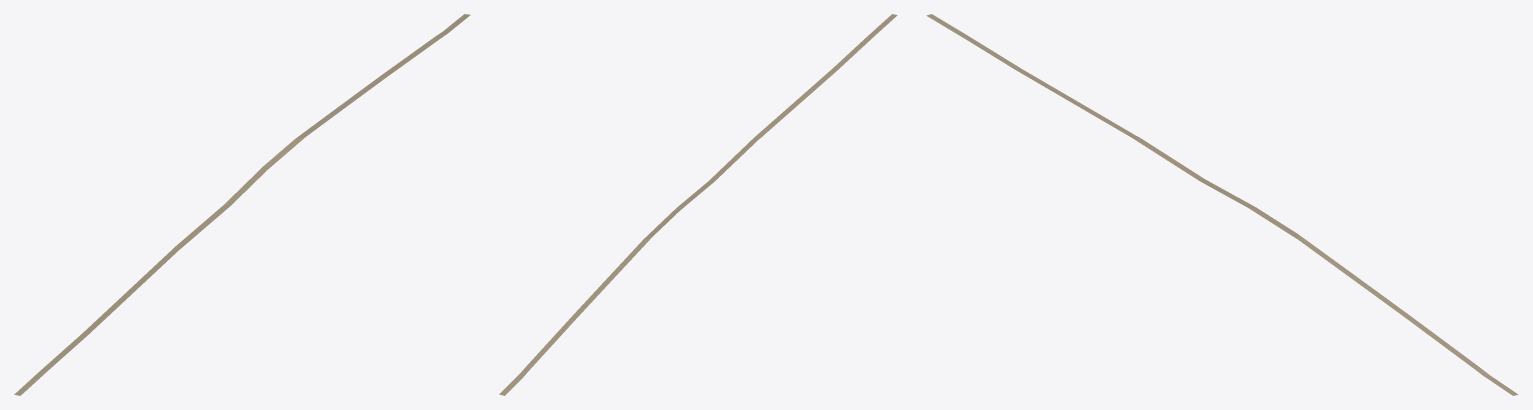
File: farm_20_24_track.glb
The picture shows the model from 3 angles, left to right: view 1: azimuth 30°, elevation 25°; view 2: azimuth 210°, elevation 25°; view 3: azimuth 270°, elevation 25°; orthographic projection. The views are drawn at different scales.
Parts seen in each view (by area): view 1: geometry_0; view 2: geometry_0; view 3: geometry_0.
Part boxes in pixels (<box>): geometry_0: <box>14,14,470,395</box>; geometry_0: <box>499,14,897,395</box>; geometry_0: <box>926,14,1518,395</box>.
Size of the model in its own units: 403 by 15.3 by 284.
